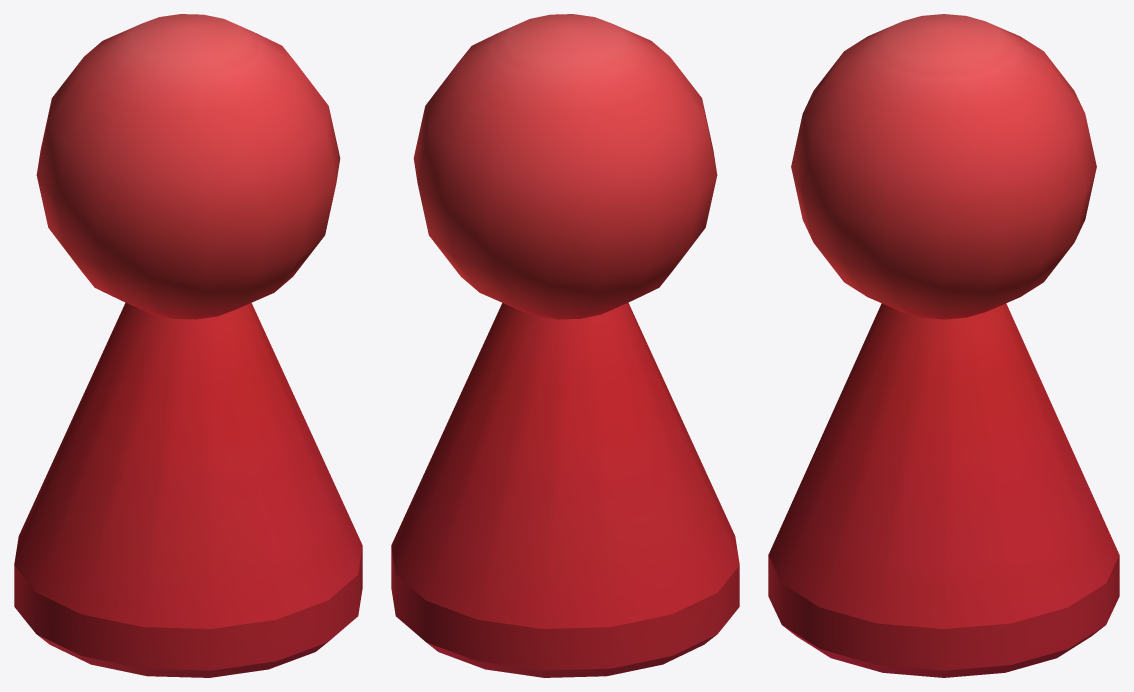
Rendered from board.pawn_a_red.glb.
The picture shows the model from 3 angles, left to right: view 1: azimuth 30°, elevation 25°; view 2: azimuth 150°, elevation 25°; view 3: azimuth 270°, elevation 25°; orthographic projection.
Parts seen in each view (by area): view 1: pawn_A_red; view 2: pawn_A_red; view 3: pawn_A_red.
Part boxes in pixels (x1,y1,x2,y2): pawn_A_red: [14, 14, 362, 677]; pawn_A_red: [391, 14, 739, 677]; pawn_A_red: [768, 14, 1119, 677].
Bounding box in the file's own units: 0.0133 × 0.0244 × 0.0133.
1 material, 1 textured.
